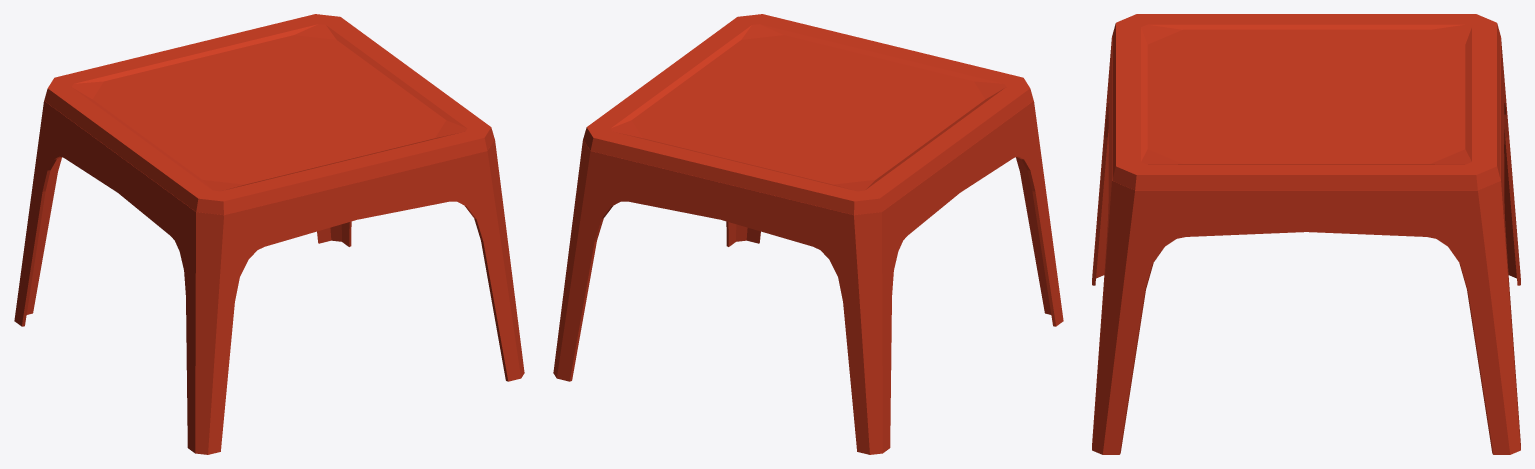
The model's file is SM_Furniture_TableLow_Red_01.glb.
3 views of the same model, side by side, from view 1: azimuth 30°, elevation 25°; view 2: azimuth 150°, elevation 25°; view 3: azimuth 270°, elevation 25° (orthographic). The views are drawn at different scales.
Visible parts, largest first — view 1: SM_Furniture_TableLow_Red_01; view 2: SM_Furniture_TableLow_Red_01; view 3: SM_Furniture_TableLow_Red_01.
Boxes of the visible parts, x1,y1,x2,y2 form: SM_Furniture_TableLow_Red_01: (14, 14, 524, 454); SM_Furniture_TableLow_Red_01: (553, 14, 1063, 454); SM_Furniture_TableLow_Red_01: (1092, 14, 1520, 454).
Size of the model in its own units: 0.648 by 0.45 by 0.648.
1 material, 1 textured.
